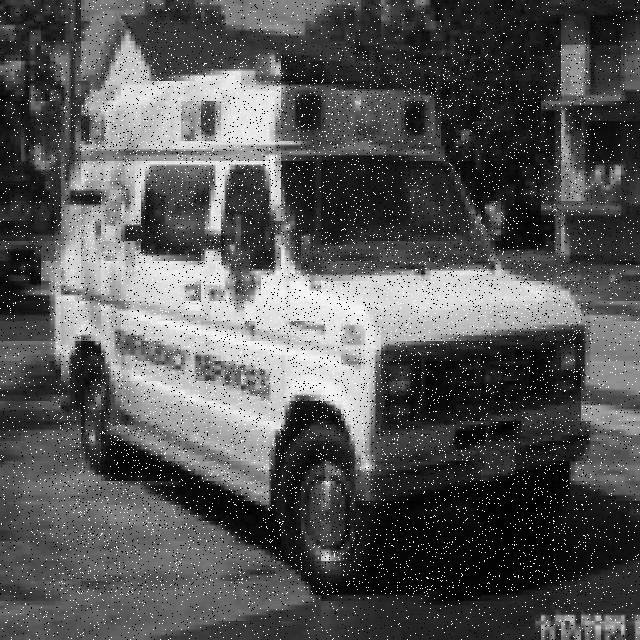Ambulance: (52, 53, 592, 596)
